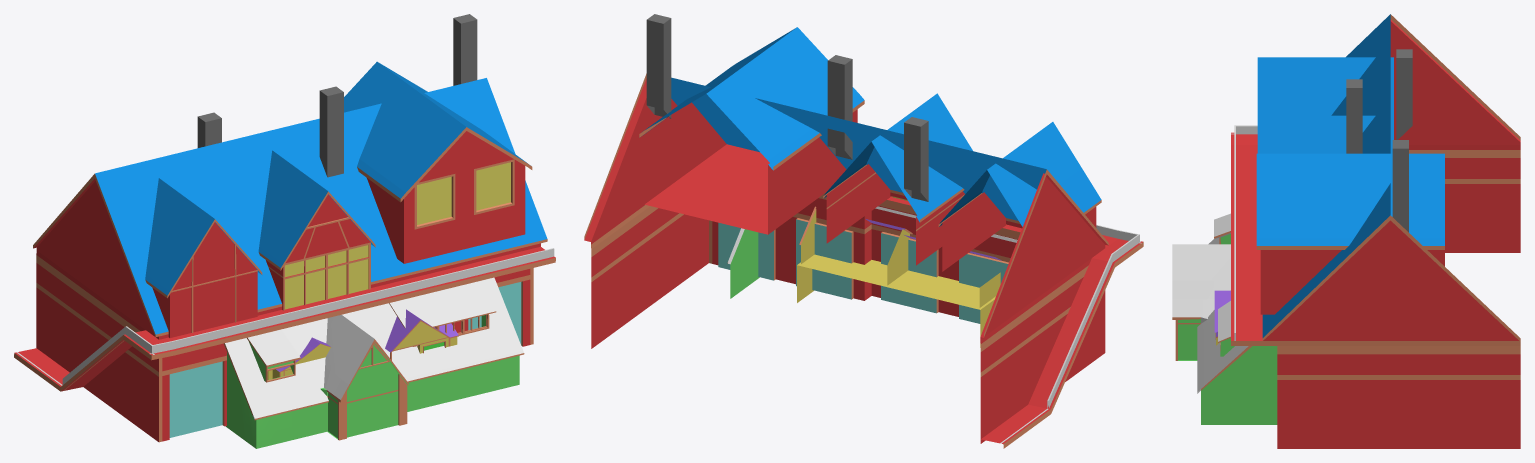
File: SM_boathouseRow_Houses.fbx
The picture shows the model from 3 angles, left to right: view 1: azimuth 30°, elevation 25°; view 2: azimuth 150°, elevation 25°; view 3: azimuth 270°, elevation 25°; orthographic projection. The views are drawn at different scales.
Visible parts, largest first — view 1: H2, H3, H1; view 2: H2, H1, H3; view 3: H2, H3, H1.
Part boxes in pixels (x1,y1,x2,y2): H2: (14,14,555,442); H3: (223,277,524,448); H1: (267,309,458,379); H2: (584,14,1143,448); H1: (797,206,1001,347); H3: (727,206,1017,298); H2: (1231,14,1520,448); H3: (1172,213,1277,424); H1: (1214,290,1230,345).
Size of the model in its own units: 125 by 83.54 by 87.3.
